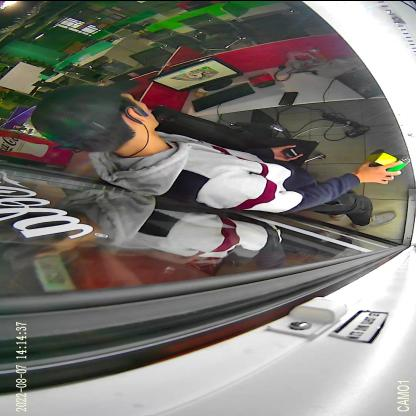green: (377, 154, 411, 178)
yellow: (362, 148, 398, 166)
